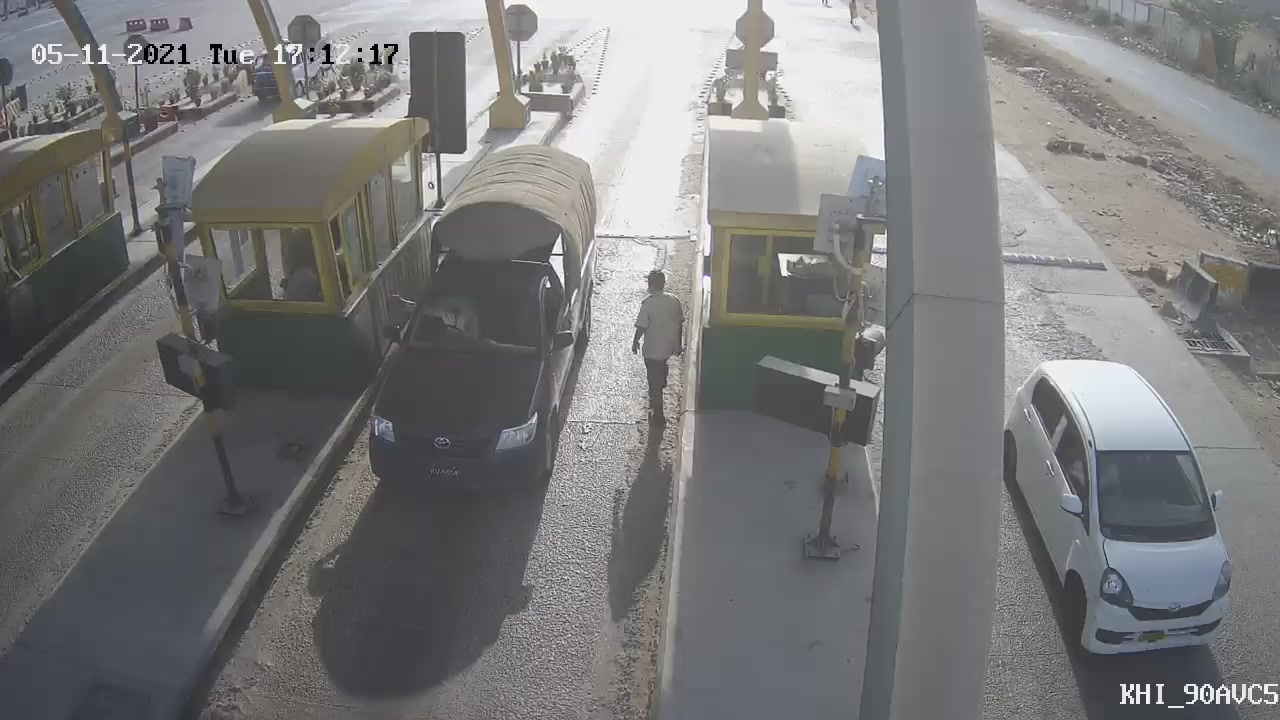F1: (343, 126, 625, 512)
